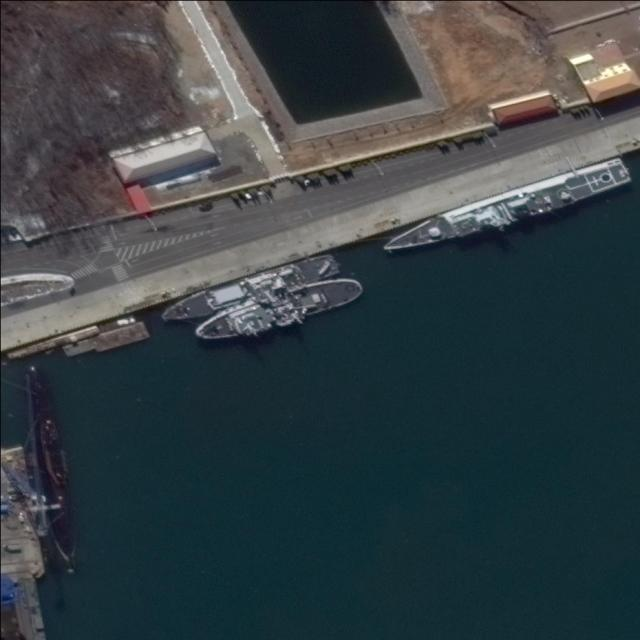Auxiliary Ships: (374, 157, 632, 260)
Other Warship: (187, 269, 367, 353), (156, 252, 341, 326)
Submarine: (15, 356, 88, 583)
